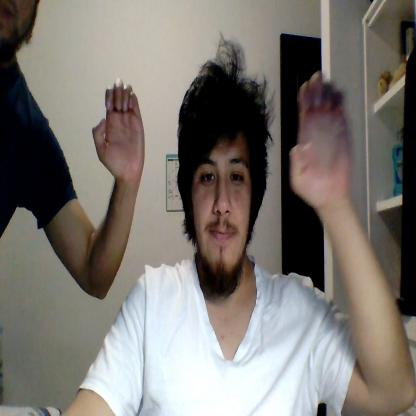E: (289, 73, 352, 206), (92, 80, 145, 183)
